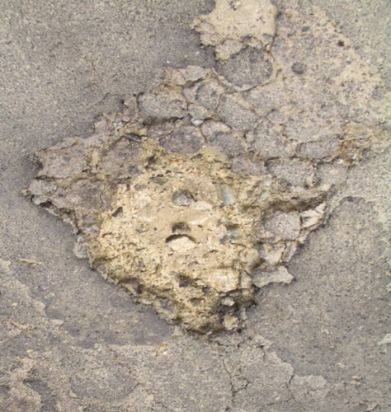pothole: (15, 60, 336, 344)
